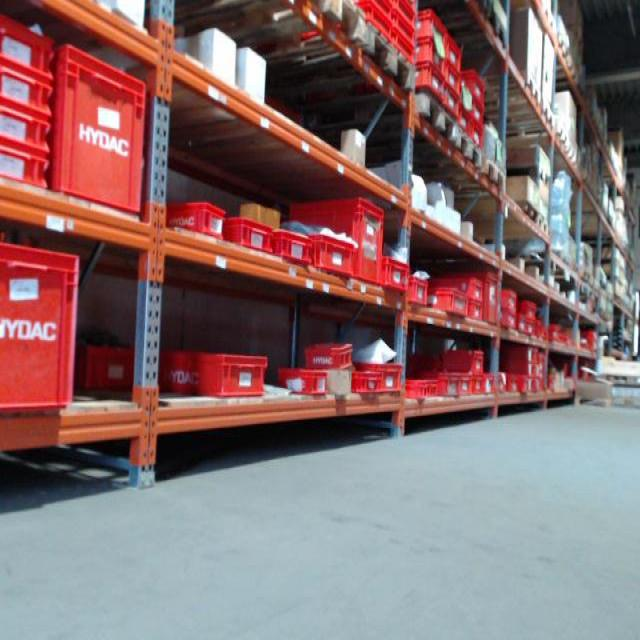pallet: (156, 2, 370, 69), (231, 25, 418, 99), (311, 87, 461, 151), (400, 4, 508, 51), (413, 157, 508, 198), (401, 139, 485, 172), (463, 193, 540, 226), (498, 218, 551, 241)
small_load_carrier: (54, 43, 151, 221), (2, 236, 88, 413), (279, 194, 387, 287), (200, 347, 276, 404), (146, 197, 224, 245), (80, 344, 146, 399), (3, 59, 60, 122), (2, 15, 58, 76), (221, 210, 277, 261), (2, 97, 50, 154), (2, 145, 54, 197), (309, 225, 357, 279), (159, 344, 198, 408), (339, 1, 394, 41), (302, 337, 359, 372), (409, 2, 448, 51), (352, 360, 408, 394), (274, 228, 314, 270), (277, 366, 329, 398), (425, 279, 468, 315), (476, 266, 497, 332), (409, 37, 446, 74), (393, 5, 420, 50), (419, 368, 456, 399), (384, 257, 412, 296), (439, 350, 485, 372), (354, 370, 381, 404), (440, 59, 461, 102), (393, 1, 418, 34), (456, 274, 486, 301), (455, 301, 483, 329), (443, 37, 463, 76), (439, 82, 460, 117), (467, 69, 485, 109), (408, 277, 430, 309), (418, 68, 441, 98), (396, 36, 415, 71), (502, 340, 541, 357), (422, 375, 443, 405), (371, 2, 397, 25), (400, 379, 424, 403), (503, 361, 541, 375), (449, 105, 468, 132), (513, 298, 536, 320), (462, 80, 473, 122), (472, 102, 487, 132), (500, 287, 517, 313), (532, 324, 548, 351), (453, 372, 470, 396), (497, 313, 516, 333), (513, 379, 535, 394), (468, 126, 481, 151), (497, 374, 511, 397), (550, 317, 561, 346), (482, 369, 495, 393), (473, 373, 485, 396), (515, 314, 524, 331), (524, 321, 536, 333)
